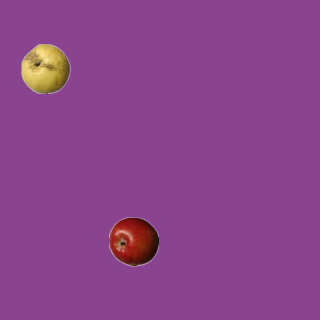Apple Braeburn: (108, 216, 158, 266)
Apple Golden 1: (20, 43, 70, 93)
